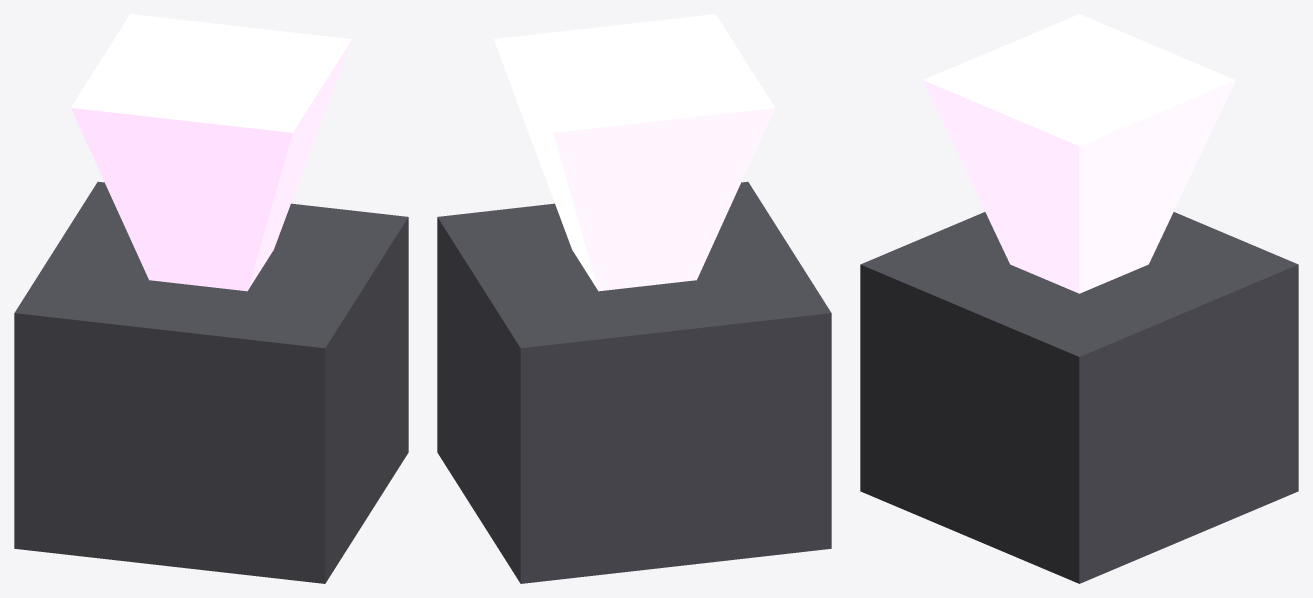
File: tower_debuff_lod2.glb
3 views of the same model, side by side, from view 1: azimuth 30°, elevation 25°; view 2: azimuth 150°, elevation 25°; view 3: azimuth 270°, elevation 25° (orthographic). The views are drawn at different scales.
Visible parts, largest first — view 1: tower_debuff_lod2; view 2: tower_debuff_lod2; view 3: tower_debuff_lod2.
Boxes of the visible parts, x1,y1,x2,y2 form: tower_debuff_lod2: (14,14,408,583); tower_debuff_lod2: (437,14,831,583); tower_debuff_lod2: (860,14,1298,583).
Size of the model in its own units: 0.7 by 0.725 by 0.7.
